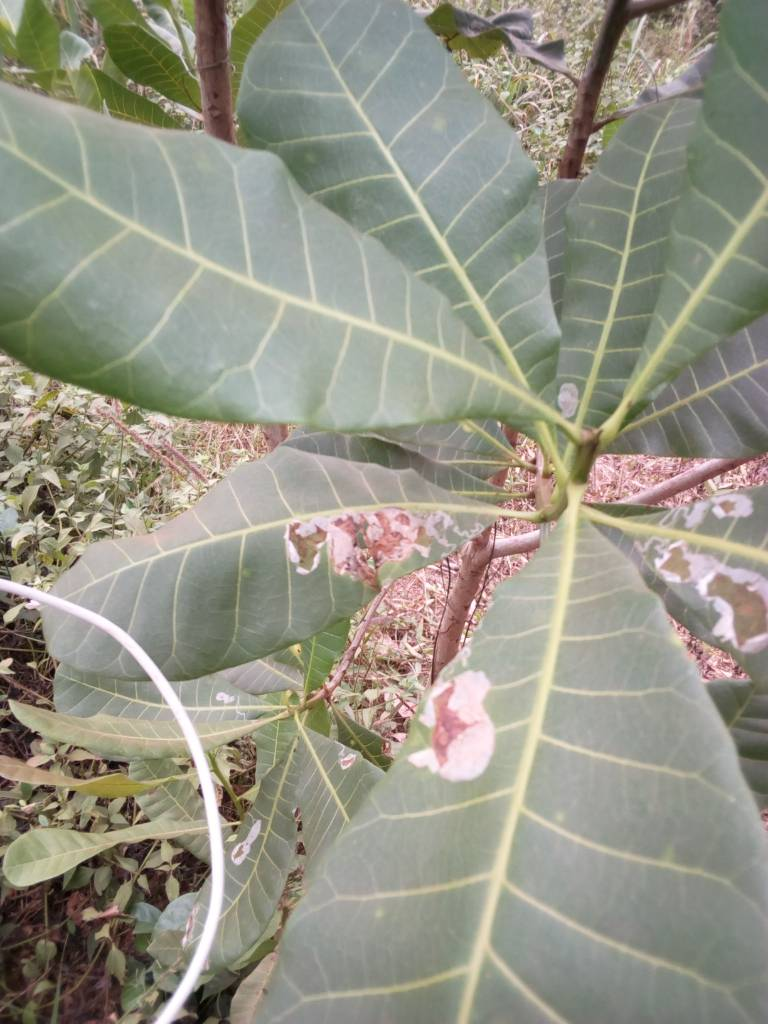Bactériose: (46, 475, 488, 658), (635, 496, 768, 653)
